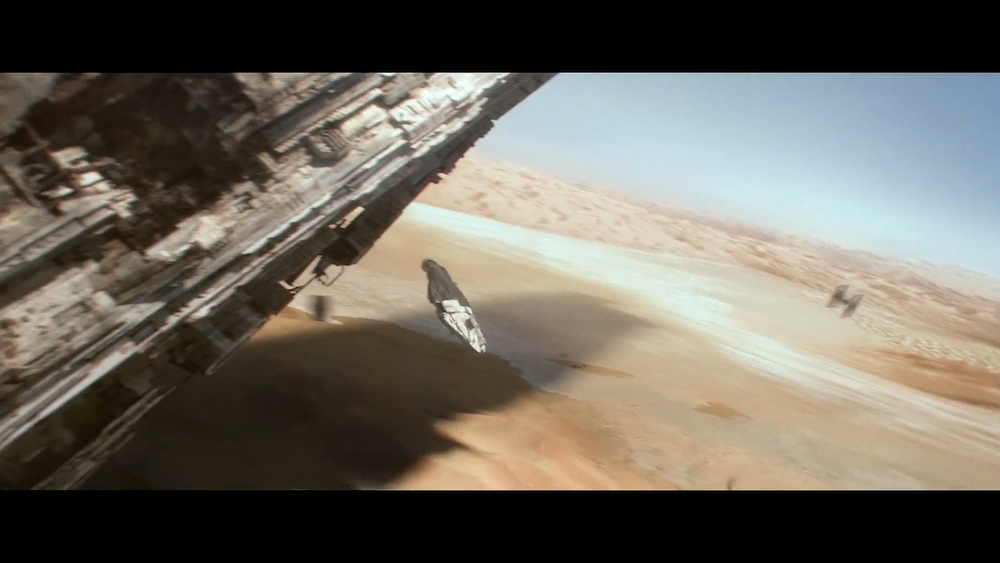Millennium Falcon: (420, 259, 489, 356)
Tie Fighter: (825, 285, 865, 320)
